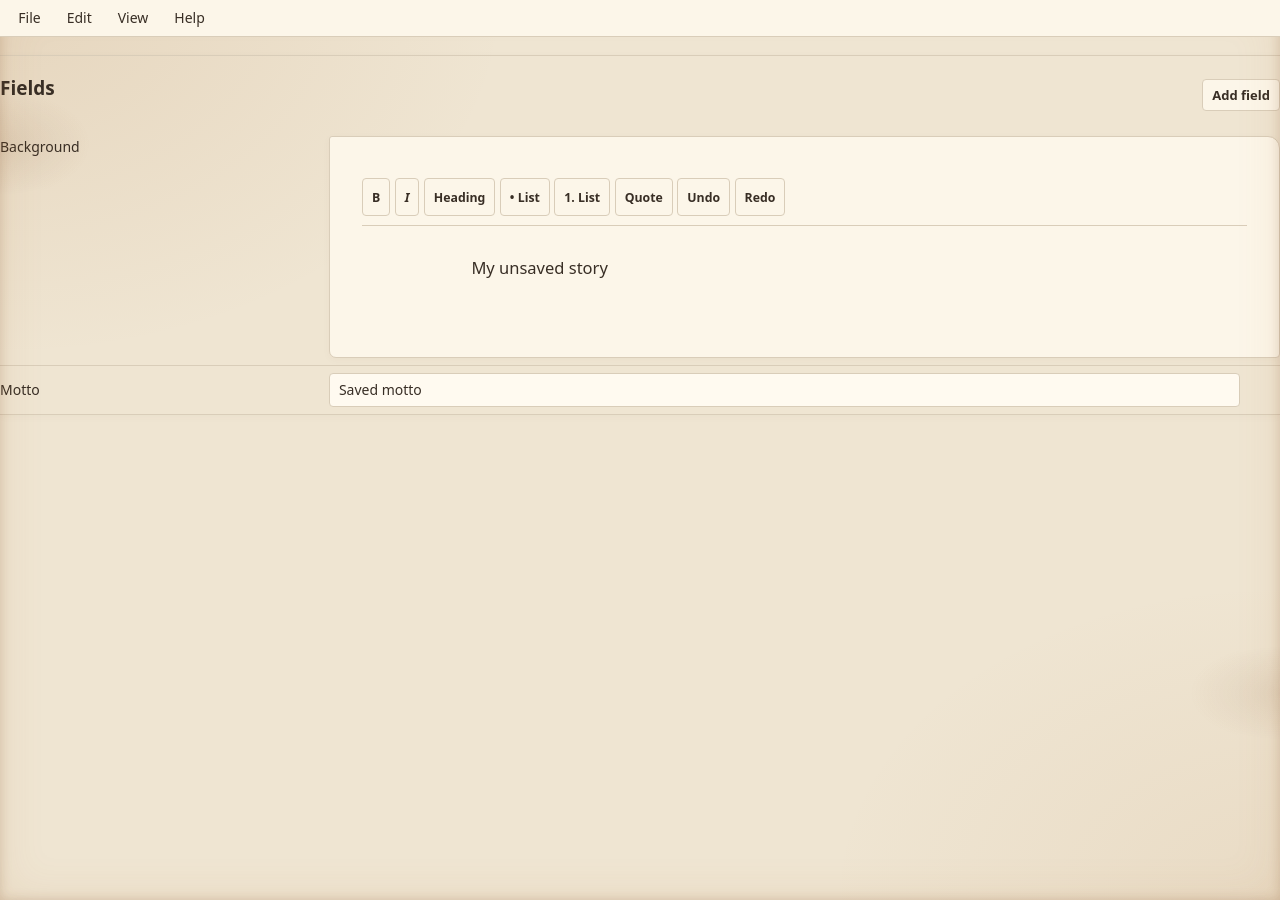
Test: keeps failed Rich drafts, blocks configuration and navigation, and requires review before rebasing
Clear the field named "Value: Background" at (540, 268), box [471,256,608,279]
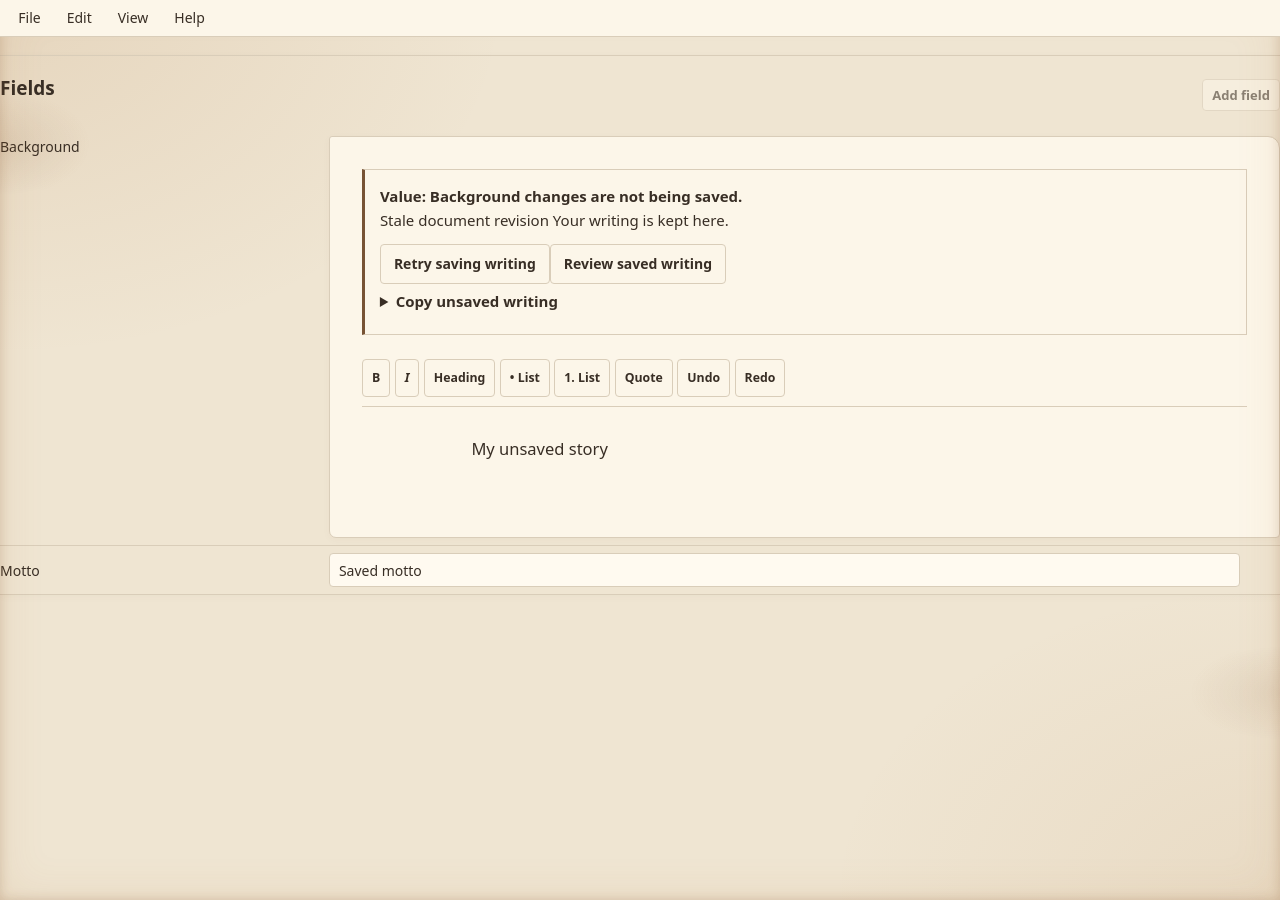
Expected: the button "Add field" is disabled, [1202,79,1279,111]
Click the button "Review saved writing" at (638, 264), box [550,244,726,284]
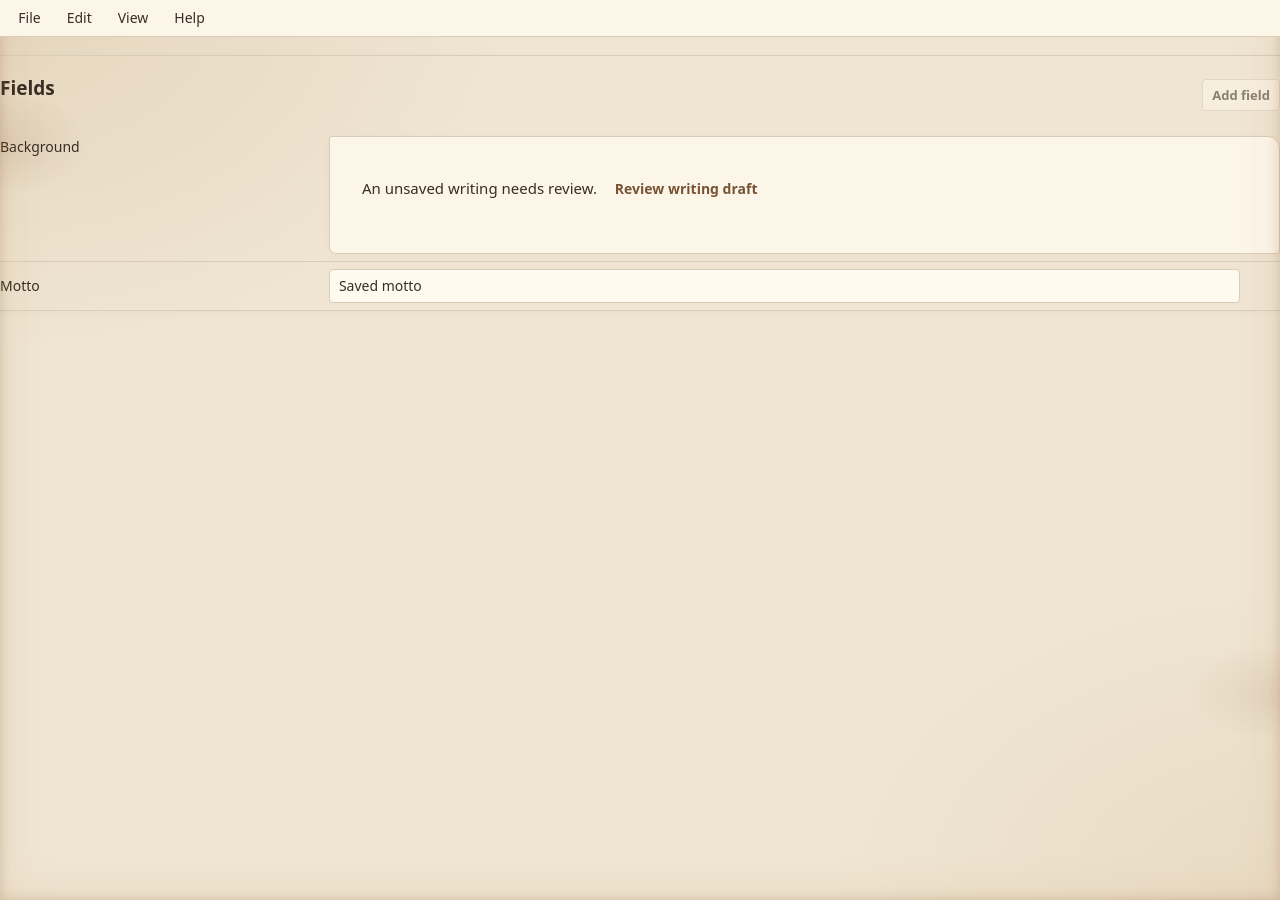
Click the button "Review writing draft" at (686, 189), box [601,169,772,209]
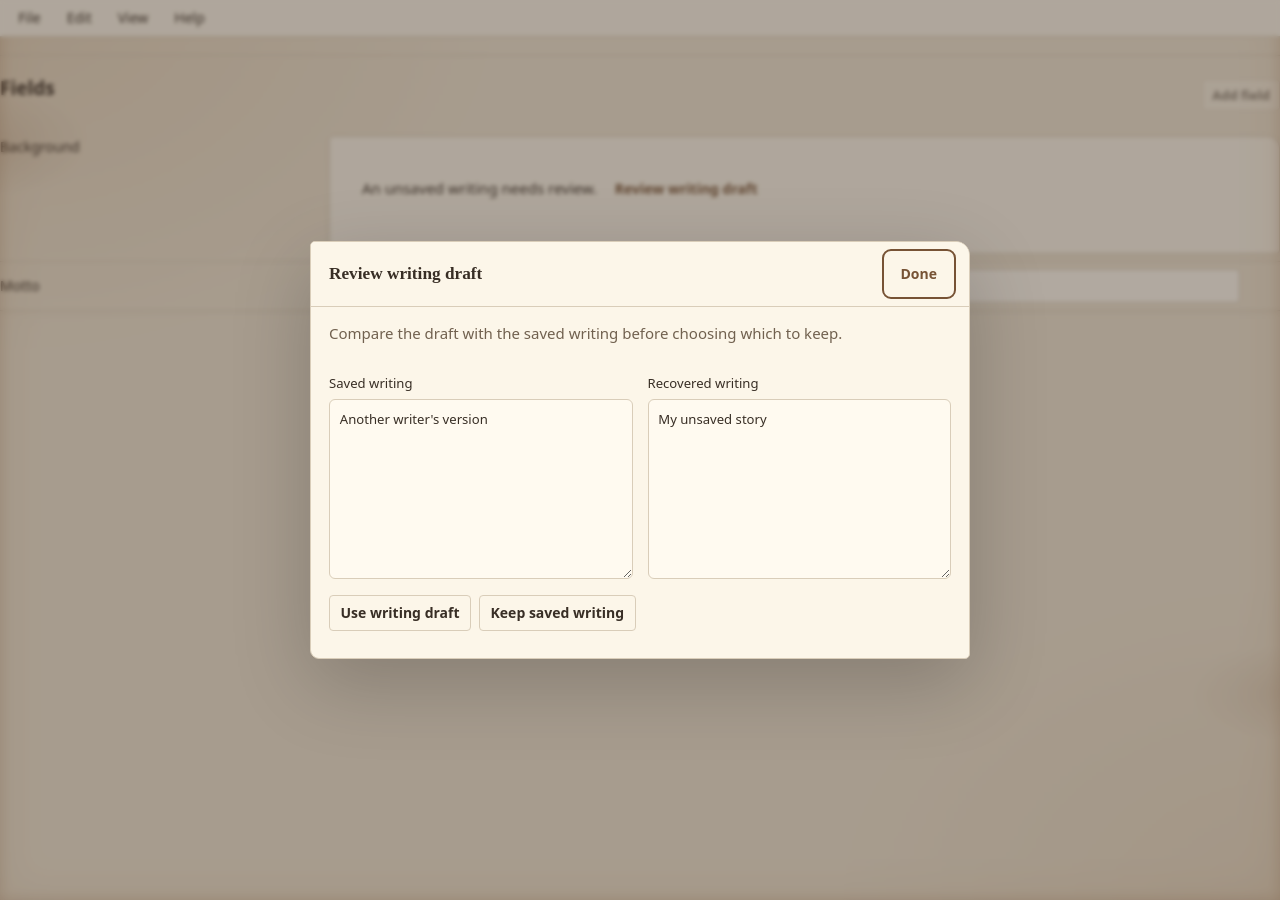
Expected: the text box labelled "Saved writing" holds "Another writer's version", [329,399,632,579]
Click the button "Keep saved writing" at (557, 613), box [479,595,636,631]
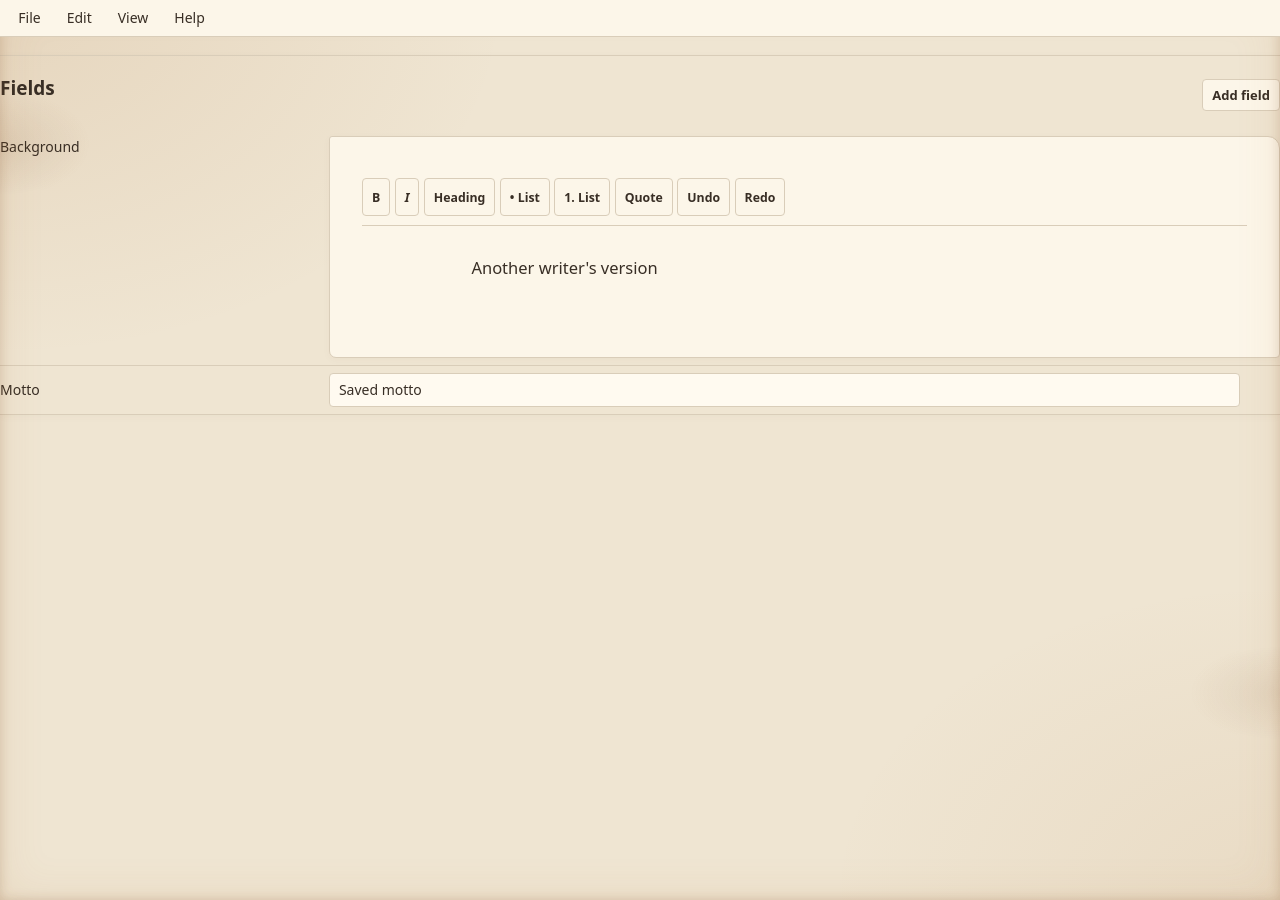
Expected: the field named "Value: Background" reads "Another writer's version", [471,256,658,279]
